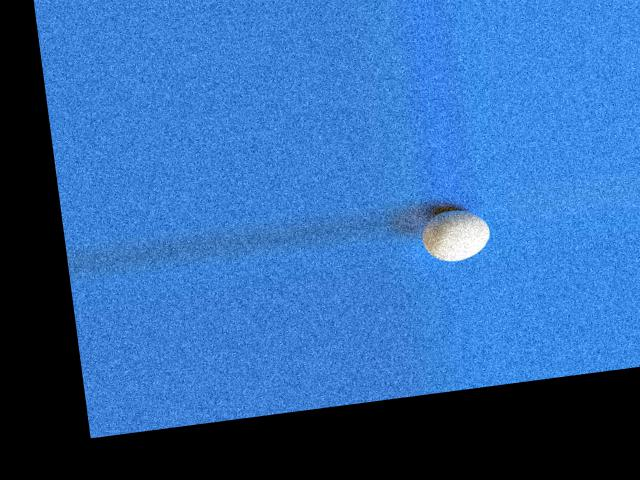egg: (418, 205, 493, 264)
